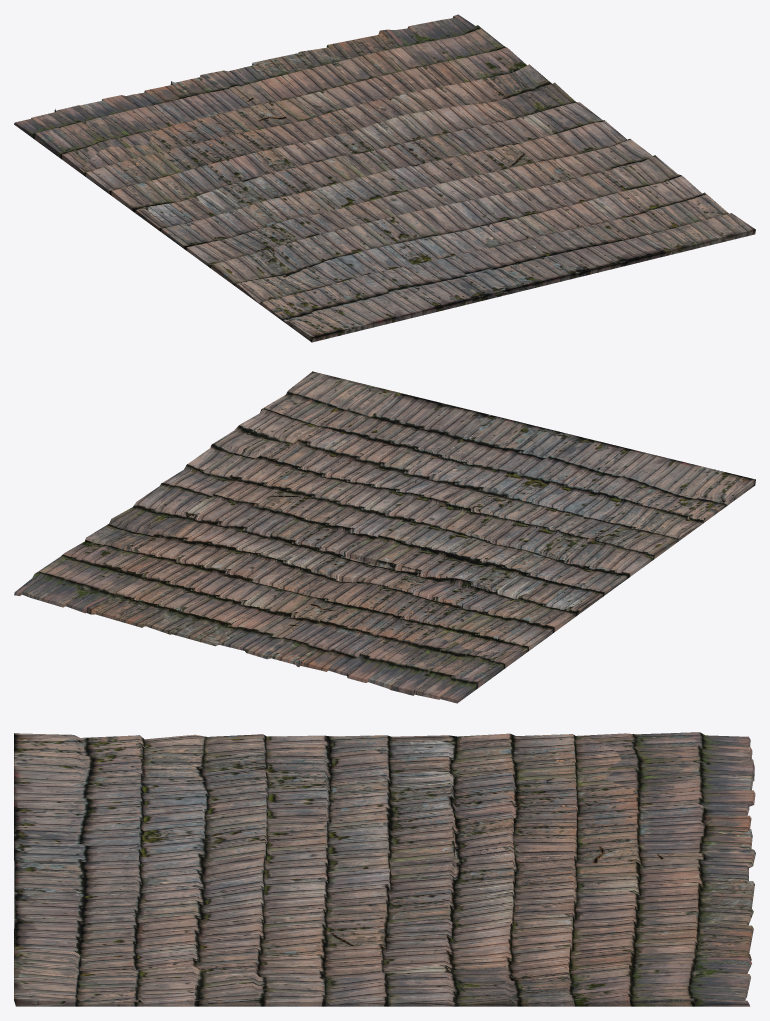
File: SM_OldCeramicRoofTiles_01_02.fbx
3 views of the same model, one above another, from view 1: azimuth 30°, elevation 25°; view 2: azimuth 150°, elevation 25°; view 3: azimuth 270°, elevation 25° (orthographic). The views are drawn at different scales.
Parts seen in each view (by area): view 1: sm_OldCeramicRoofTiles_01_02_LOD0; view 2: sm_OldCeramicRoofTiles_01_02_LOD0; view 3: sm_OldCeramicRoofTiles_01_02_LOD0.
Boxes of the visible parts, <box> form: sm_OldCeramicRoofTiles_01_02_LOD0: <box>14,14,755,342</box>; sm_OldCeramicRoofTiles_01_02_LOD0: <box>14,371,755,703</box>; sm_OldCeramicRoofTiles_01_02_LOD0: <box>14,732,755,1006</box>.
Bounding box in the file's own units: 705 × 600 × 13.37.
